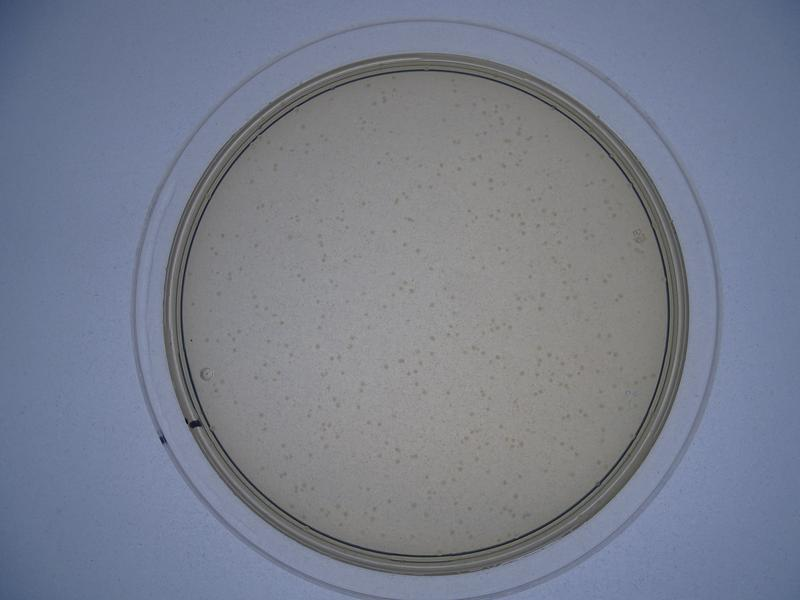colony: (296, 119, 310, 135), (275, 439, 289, 453), (497, 476, 511, 490), (211, 286, 224, 301), (531, 302, 546, 315), (385, 267, 399, 280), (615, 253, 628, 266), (424, 412, 437, 425), (592, 328, 605, 341), (378, 359, 392, 371), (254, 408, 268, 420), (467, 177, 479, 191), (523, 270, 535, 284), (434, 114, 449, 125), (516, 365, 526, 381), (366, 226, 378, 239), (420, 471, 432, 484), (341, 295, 354, 307), (250, 239, 261, 253), (281, 392, 293, 404), (310, 194, 324, 204), (426, 332, 436, 346), (467, 251, 478, 263), (579, 205, 590, 217), (408, 499, 419, 511), (373, 160, 384, 171), (256, 463, 267, 474), (363, 308, 373, 320)
